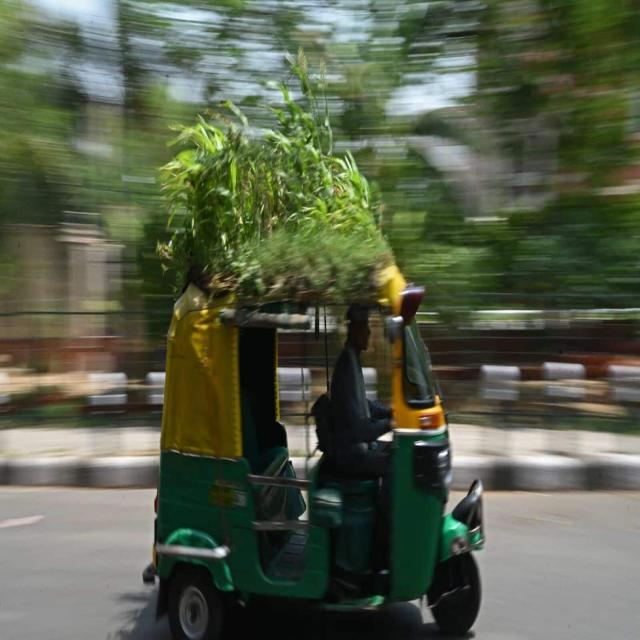autorickshaw: (150, 258, 485, 638)
